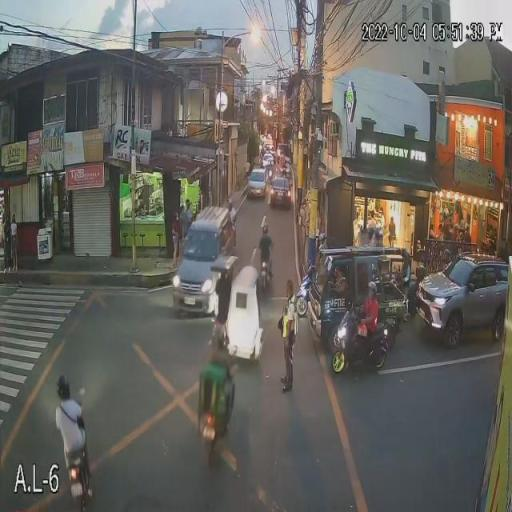helmet: (53, 377, 73, 401), (211, 328, 229, 348), (367, 283, 377, 298), (262, 224, 269, 236), (227, 199, 233, 210), (320, 244, 328, 250)
motorcycle: (332, 313, 395, 373), (199, 365, 235, 465), (63, 458, 97, 510), (296, 267, 308, 317), (259, 260, 274, 288)
rider: (55, 402, 95, 474), (207, 349, 235, 416), (354, 297, 378, 362), (258, 236, 274, 275), (230, 210, 237, 232)
